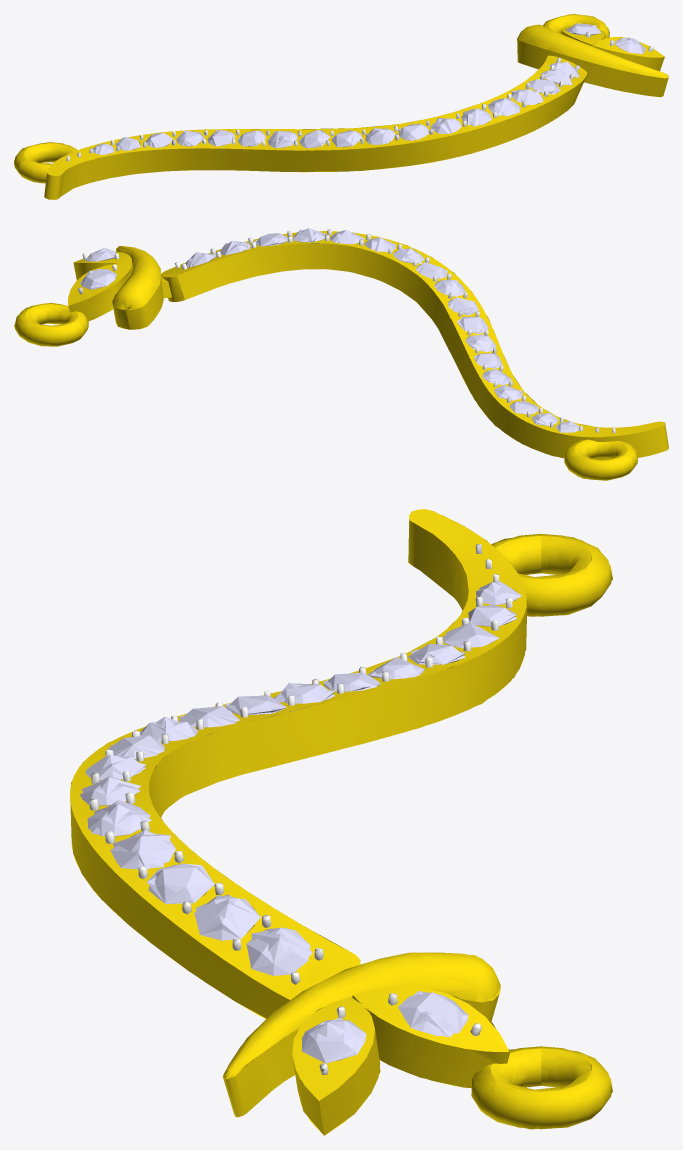
File: DPN-D000673518.glb
3 views of the same model, one above another, from view 1: azimuth 30°, elevation 25°; view 2: azimuth 150°, elevation 25°; view 3: azimuth 270°, elevation 25° (orthographic). The views are drawn at different scales.
Parts seen in each view (by area): view 1: highPolyMesh, lowPolyMesh; view 2: highPolyMesh, lowPolyMesh; view 3: highPolyMesh, lowPolyMesh.
Boxes of the visible parts, x1,y1,x2,y2 form: highPolyMesh: (14,14,668,199); lowPolyMesh: (14,14,668,199); highPolyMesh: (15,229,668,479); lowPolyMesh: (14,228,668,480); highPolyMesh: (70,509,611,1135); lowPolyMesh: (70,509,612,1135).
Bounding box in the file's own units: 0.0295 × 0.00327 × 0.0117.
